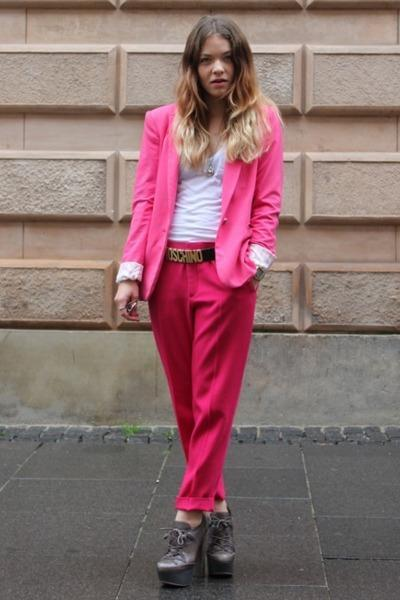jacket: (121, 90, 293, 286)
pants: (132, 252, 255, 510)
shirt: (115, 122, 274, 298)
shoe: (158, 522, 244, 593)
